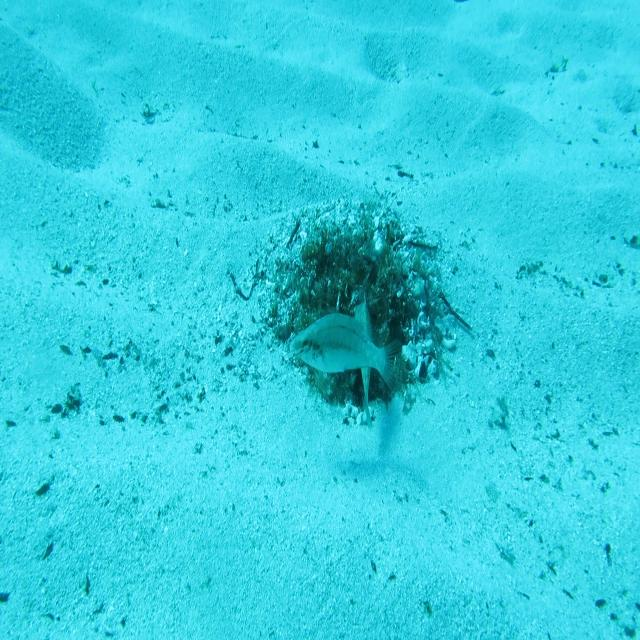FAN: (351, 292, 375, 434)
core_nest: (329, 251, 371, 286)
female: (287, 308, 405, 399)
nest: (246, 189, 460, 443)
